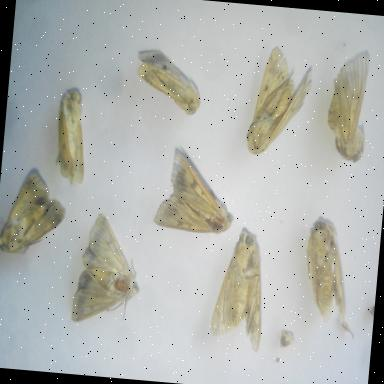abw: (68, 211, 148, 330), (242, 42, 318, 162), (205, 224, 272, 356), (152, 144, 243, 240), (296, 214, 360, 331), (0, 165, 71, 264), (322, 47, 376, 168), (130, 48, 208, 118), (48, 85, 94, 192)
